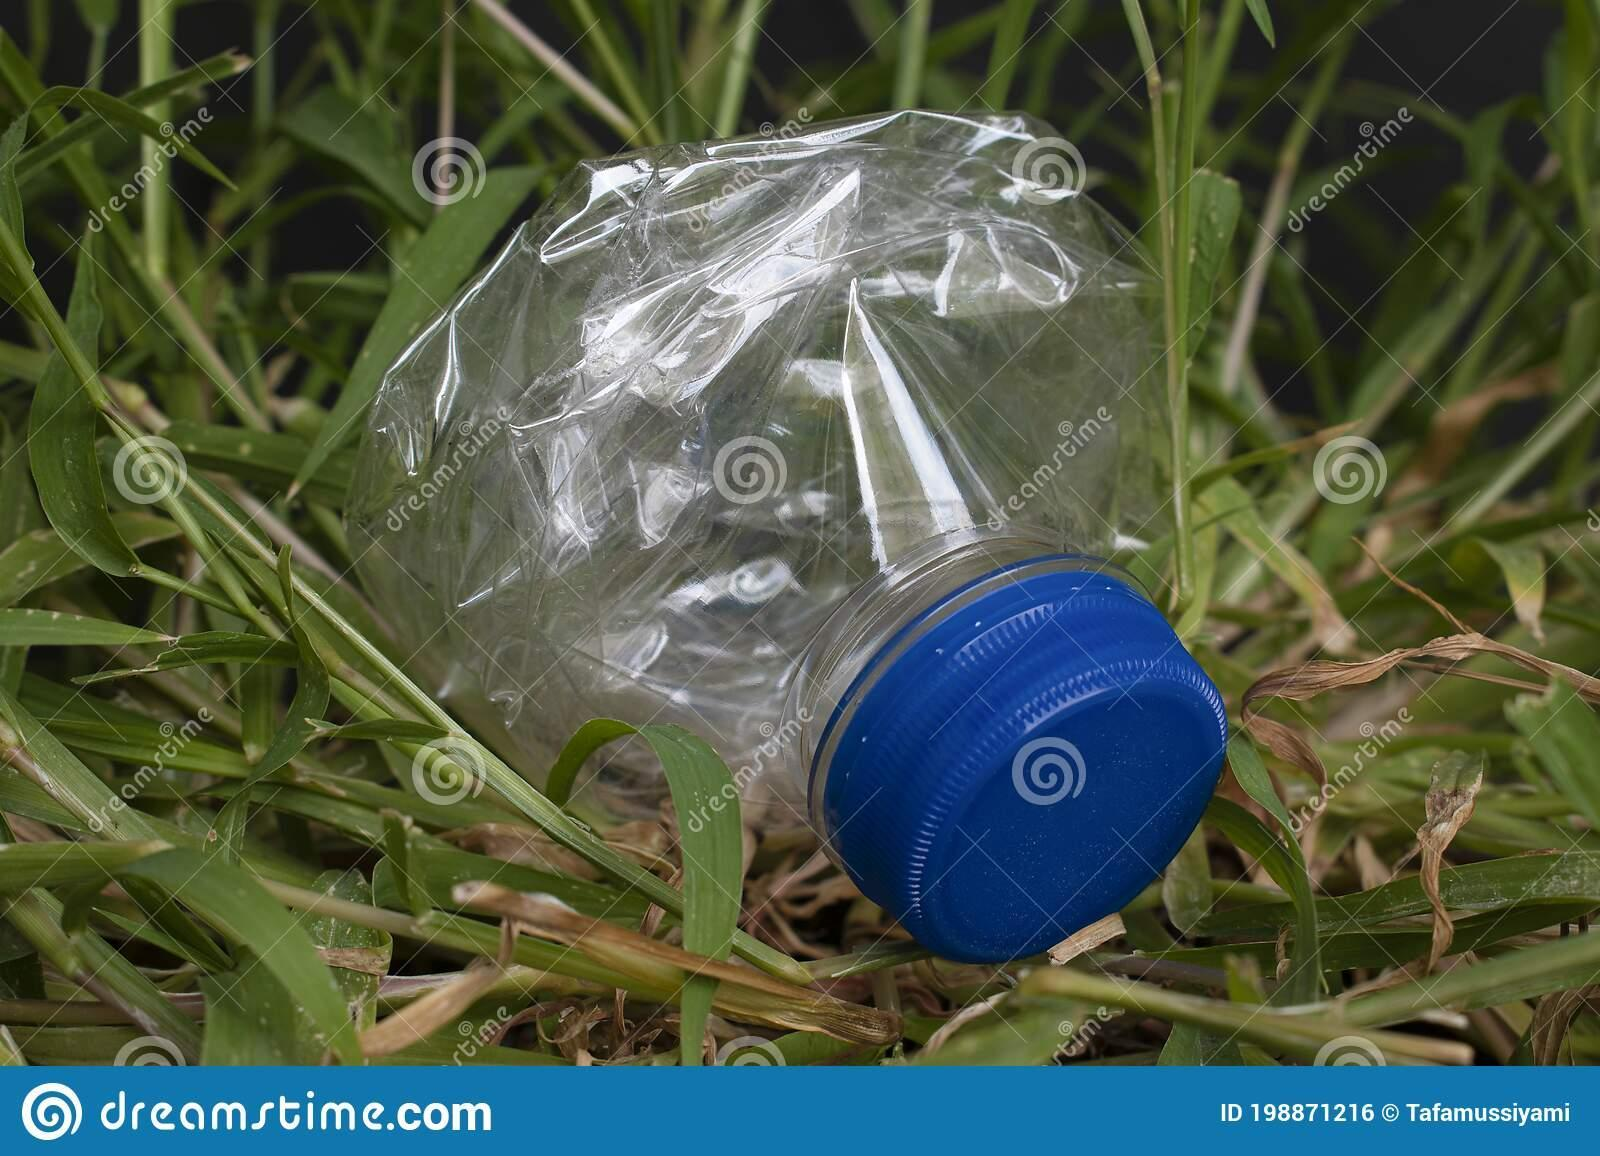bottle: (324, 70, 1261, 990)
